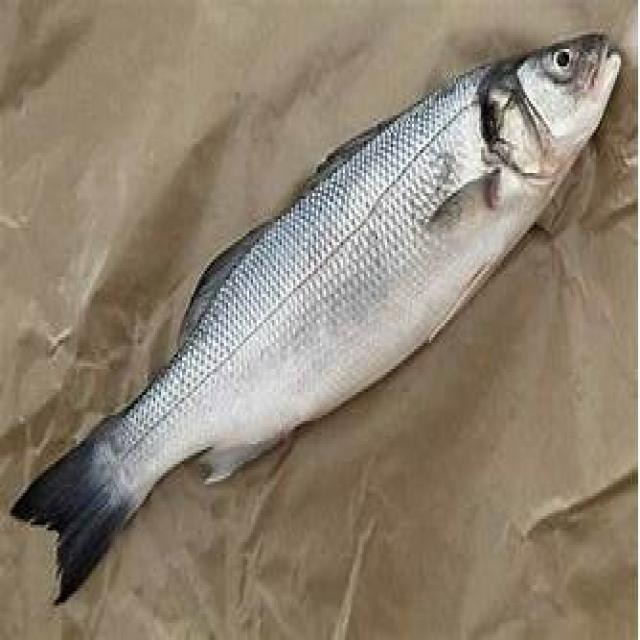Healthy Fish: (6, 23, 639, 640)
